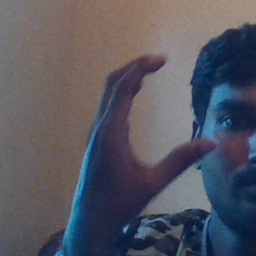C: (93, 44, 221, 190)
